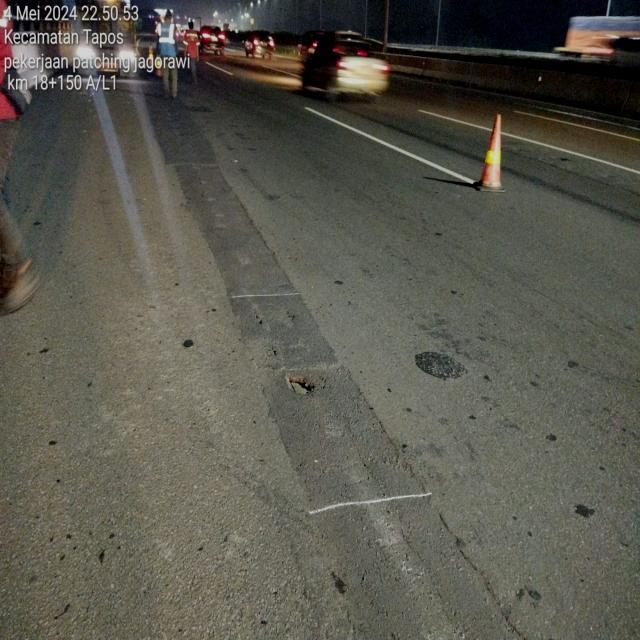Buraco: (281, 369, 324, 399), (538, 154, 574, 164), (511, 144, 535, 156)
